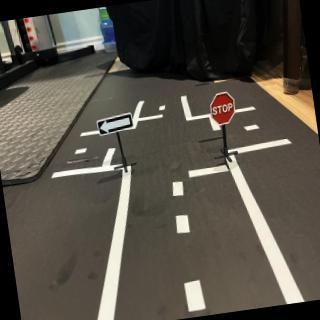sign_oneway_left: (97, 111, 137, 138)
sign_stop: (209, 92, 238, 126)
